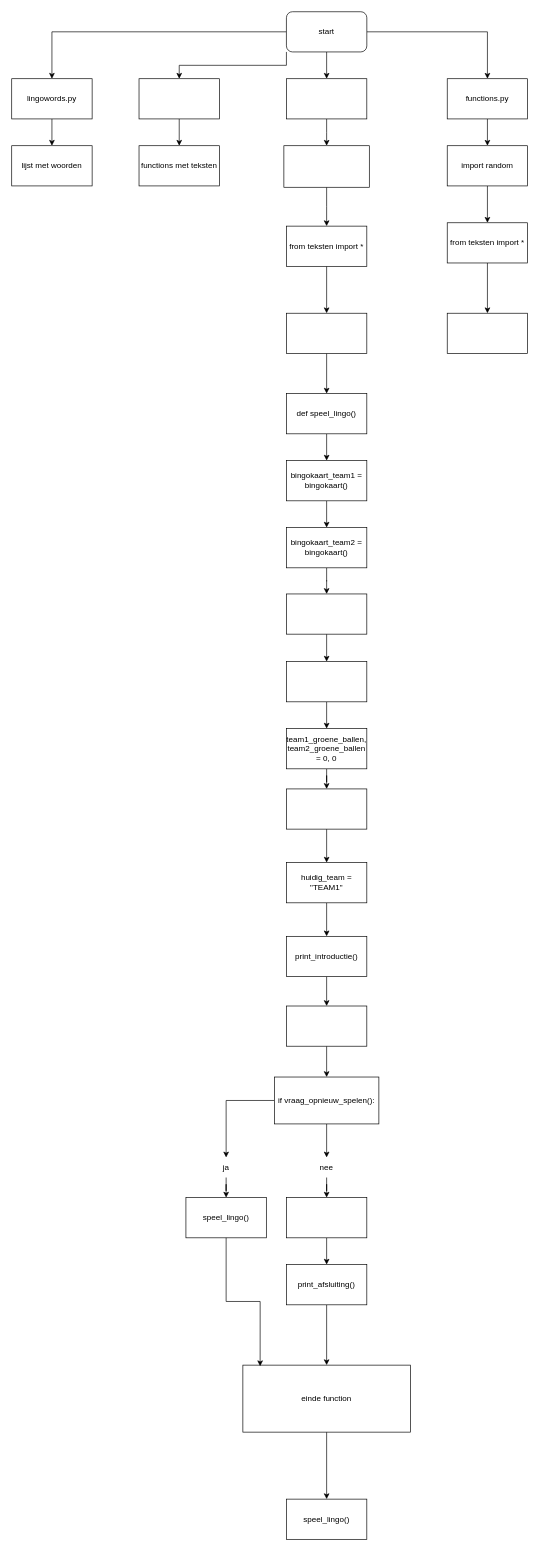
This 539x1551 diagram has some shape labels left out. The box of each missing label's shape, as (x1, y1, x2, y2) in pixels:
else:: (286, 1197, 367, 1238)
flow.py: (286, 78, 367, 119)
from functions import *: (283, 145, 369, 187)
from lingowords.py import words: (286, 313, 367, 353)
functions: (447, 313, 528, 353)
team1_foute_rij, team2_foute_rij = 0, 0: (286, 788, 367, 829)
team1_rode_ballen, team2_rode_ballen = 0, 0: (286, 661, 367, 702)
team1_score, team2_score = 0, 0: (286, 593, 367, 634)
teksten.py: (138, 78, 219, 119)
while spel spelen = true: (286, 1005, 367, 1046)
